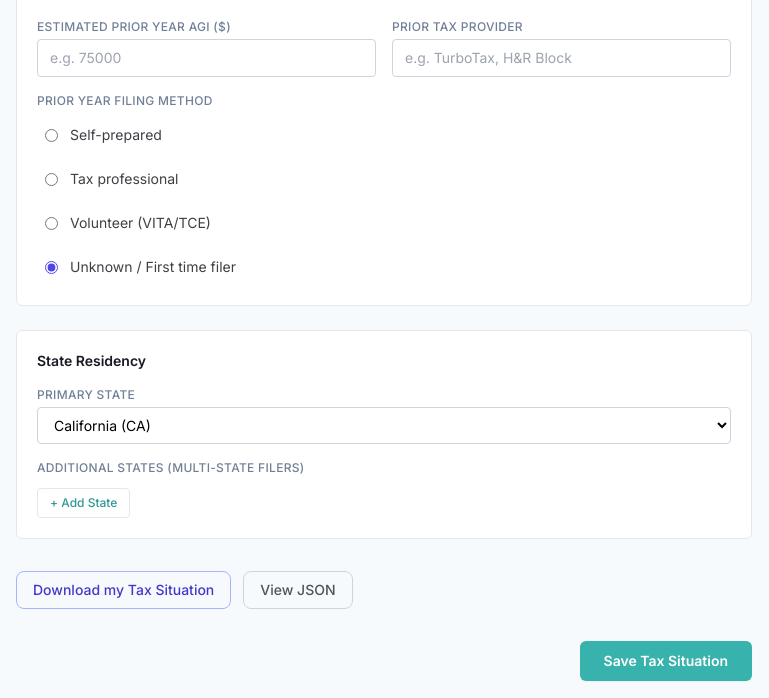
TaxSituationForm › JSON export › View JSON toggle shows inline JSON panel
(page scrolled)
// Click View JSON
Click the button "View JSON": (298, 590) [243,571,352,609]
(page scrolled)
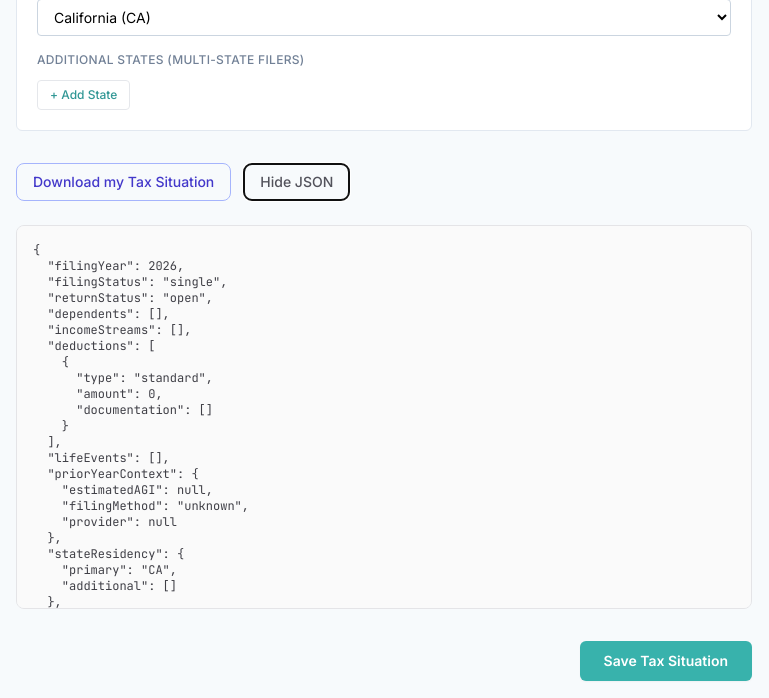
Now the element with id "json-panel" is shown, box [16,225,752,609]
